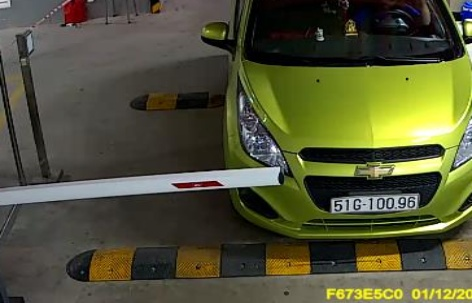plate: (326, 184, 419, 216)
